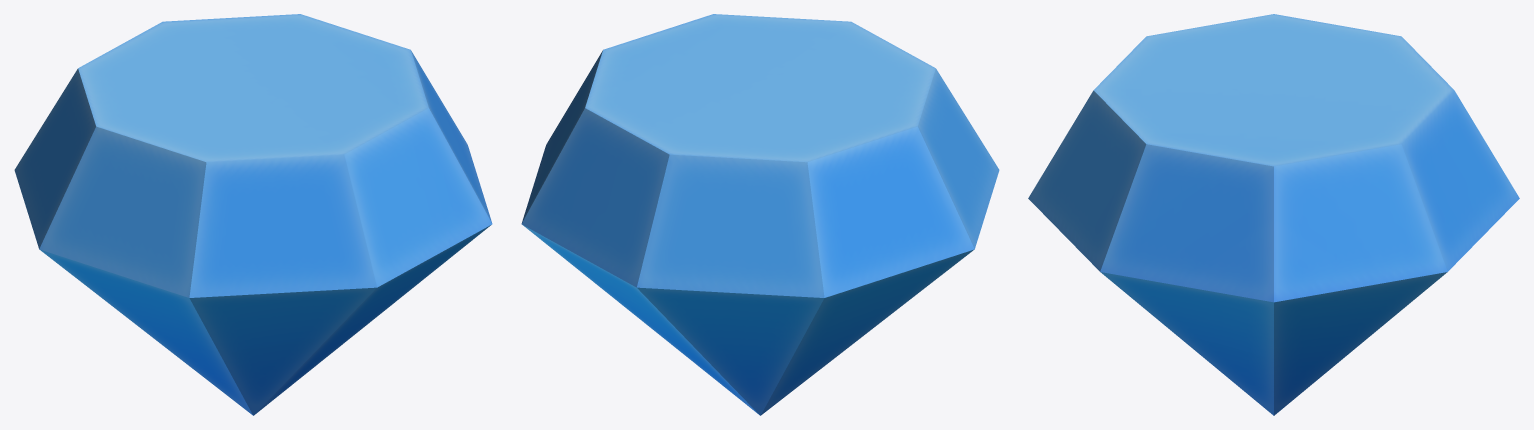
The model's file is Item2.fbx.
3 views of the same model, side by side, from view 1: azimuth 30°, elevation 25°; view 2: azimuth 150°, elevation 25°; view 3: azimuth 270°, elevation 25° (orthographic).
Parts seen in each view (by area): view 1: Mesh; view 2: Mesh; view 3: Mesh.
Part boxes in pixels (left/top/right/bottom): Mesh: left=14, top=14, right=492, bottom=415; Mesh: left=521, top=14, right=999, bottom=415; Mesh: left=1028, top=14, right=1519, bottom=415.
Size of the model in its own units: 36.15 by 26.43 by 36.15.
